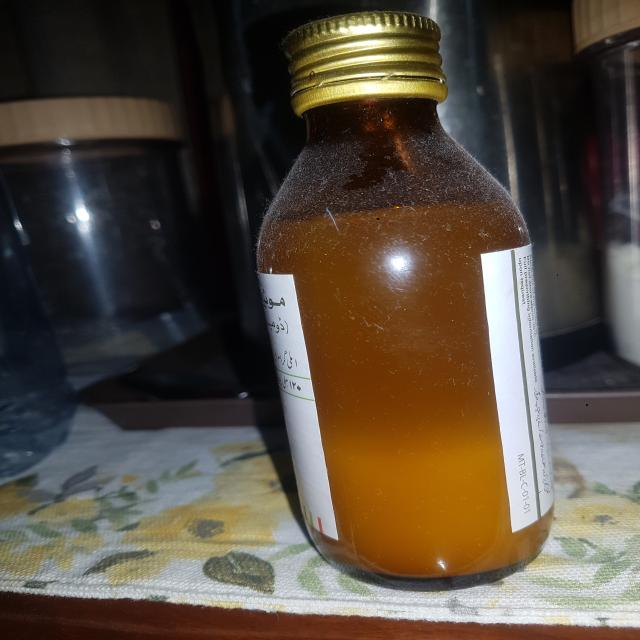electronic: (258, 10, 565, 596)
